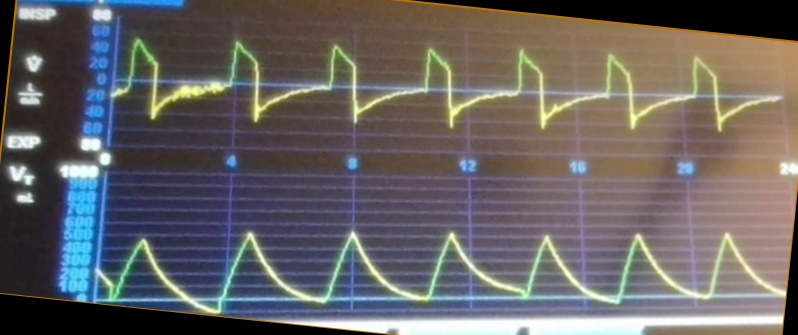Accumulation Flow: (115, 39, 762, 147)
Volume: (102, 208, 782, 312)
